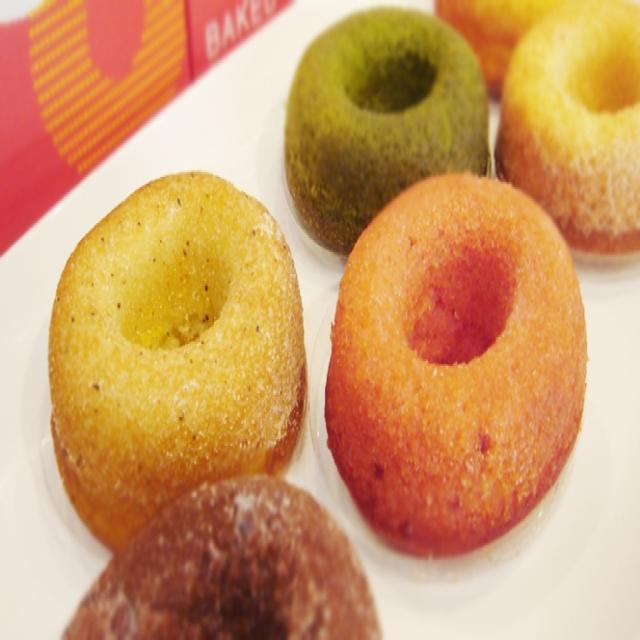炸货点心: (21, 25, 622, 618)
